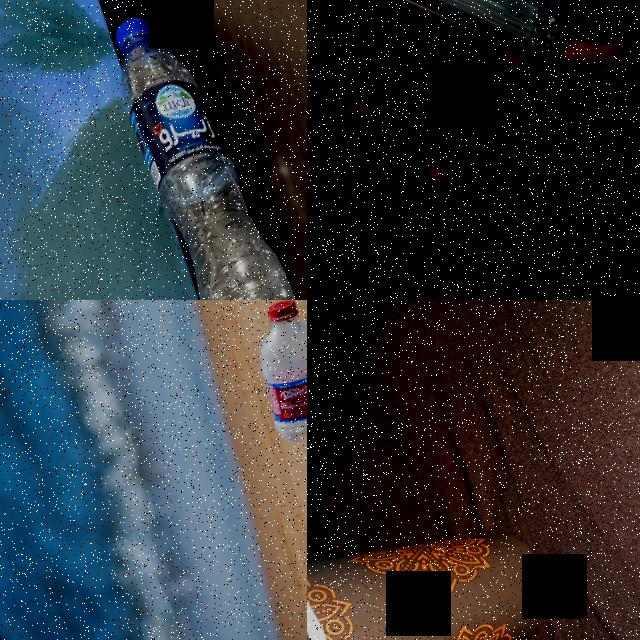bottle: (92, 0, 307, 300), (235, 300, 307, 449)
cup: (307, 471, 582, 640)
